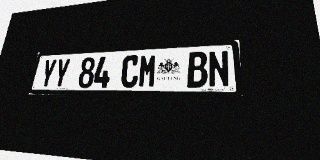4: (93, 56, 112, 88)
8: (77, 57, 96, 88)
B: (187, 51, 208, 88)
C: (120, 55, 140, 88)
M: (138, 54, 157, 88)
N: (208, 50, 230, 87)
Y: (52, 58, 71, 88), (38, 59, 57, 88)
